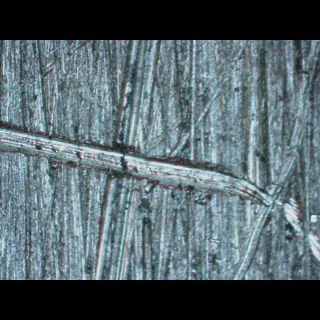d: (0, 119, 318, 263)
